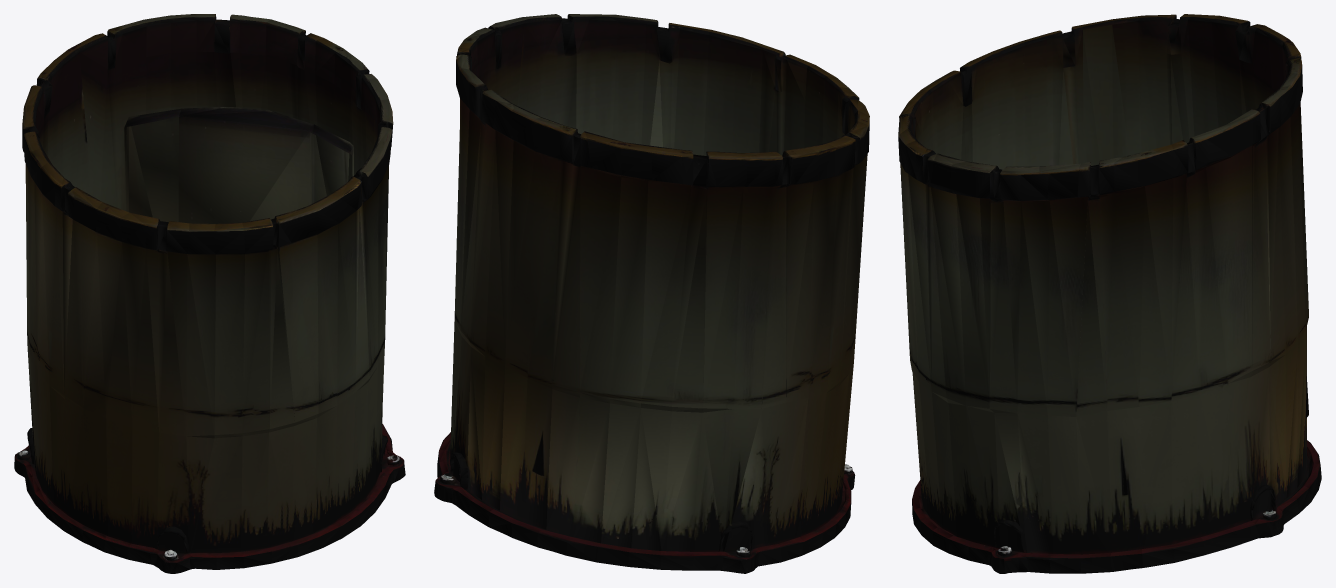
The model's file is engine_propeller.glb.
The picture shows the model from 3 angles, left to right: view 1: azimuth 30°, elevation 25°; view 2: azimuth 150°, elevation 25°; view 3: azimuth 270°, elevation 25°; orthographic projection. The views are drawn at different scales.
Visible parts, largest first — view 1: tripo_node_69a5cea8; view 2: tripo_node_69a5cea8; view 3: tripo_node_69a5cea8.
Part boxes in pixels (x1=…): tripo_node_69a5cea8: x1=14, y1=14, x2=405, y2=573; tripo_node_69a5cea8: x1=434, y1=14, x2=869, y2=573; tripo_node_69a5cea8: x1=898, y1=14, x2=1321, y2=573.
Bounding box in the file's own units: 0.8418 × 0.9985 × 0.8415.
1 material, 1 textured.
